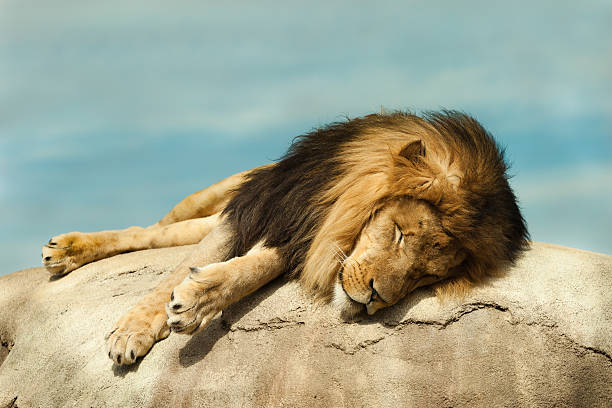lion: (212, 72, 554, 355)
